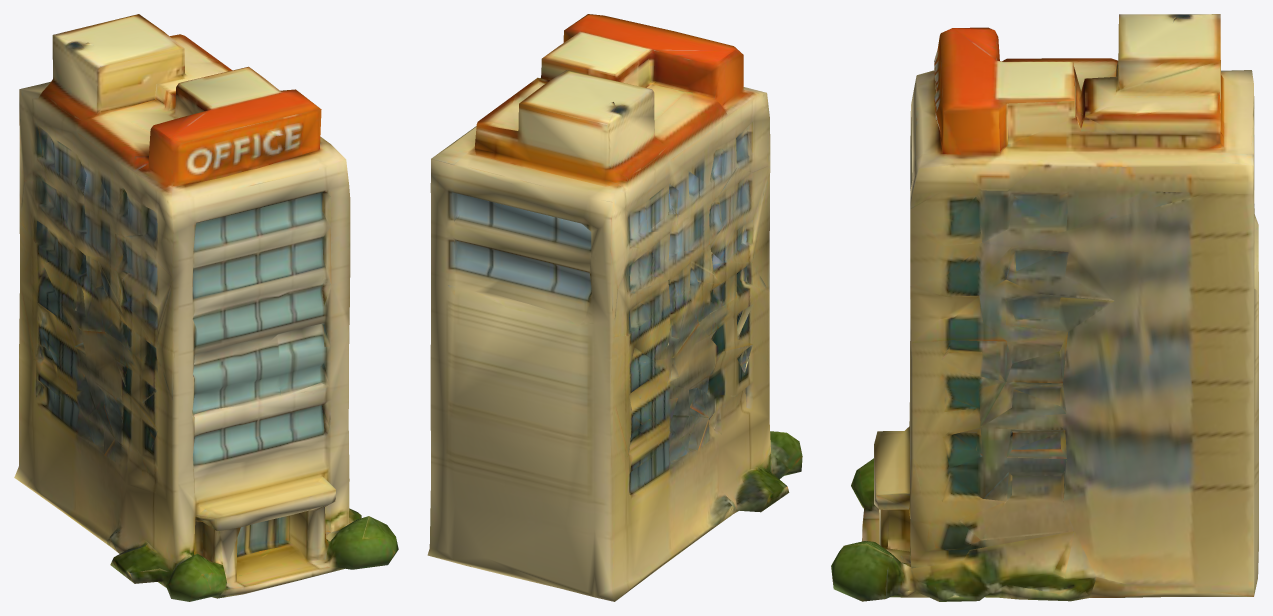
Rendered from building office tall1.fbx.
The picture shows the model from 3 angles, left to right: view 1: azimuth 30°, elevation 25°; view 2: azimuth 150°, elevation 25°; view 3: azimuth 270°, elevation 25°; orthographic projection. The views are drawn at different scales.
Parts seen in each view (by area): view 1: building office tall1; view 2: building office tall1; view 3: building office tall1.
Boxes of the visible parts, bbox=[...] form: building office tall1: bbox=[14, 14, 398, 601]; building office tall1: bbox=[427, 14, 802, 601]; building office tall1: bbox=[831, 14, 1258, 601].
Bounding box in the file's own units: 261 × 481 × 372.
